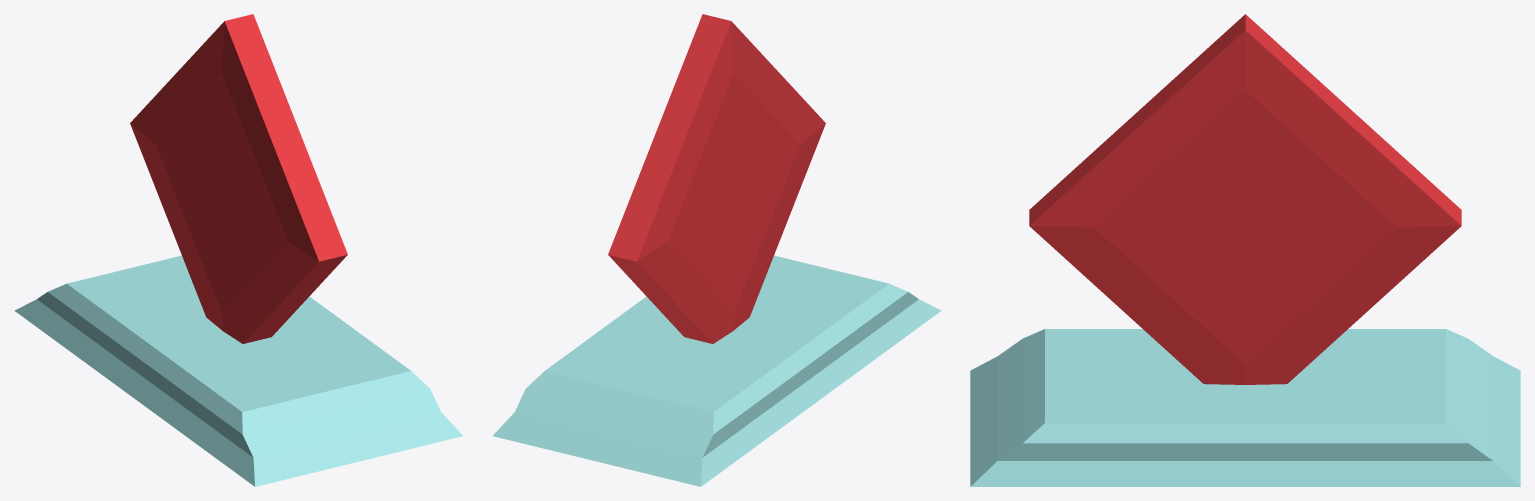
The model's file is ItemPickup.fbx.
3 renders of one model, left to right at view 1: azimuth 30°, elevation 25°; view 2: azimuth 150°, elevation 25°; view 3: azimuth 270°, elevation 25°, orthographic. The views are drawn at different scales.
Parts seen in each view (by area): view 1: Cube; view 2: Cube; view 3: Cube.
Part boxes in pixels (x1=…): Cube: x1=14, y1=14, x2=462, y2=486; Cube: x1=493, y1=14, x2=941, y2=486; Cube: x1=970, y1=14, x2=1520, y2=486.
Size of the model in its own units: 270 by 440 by 540.
